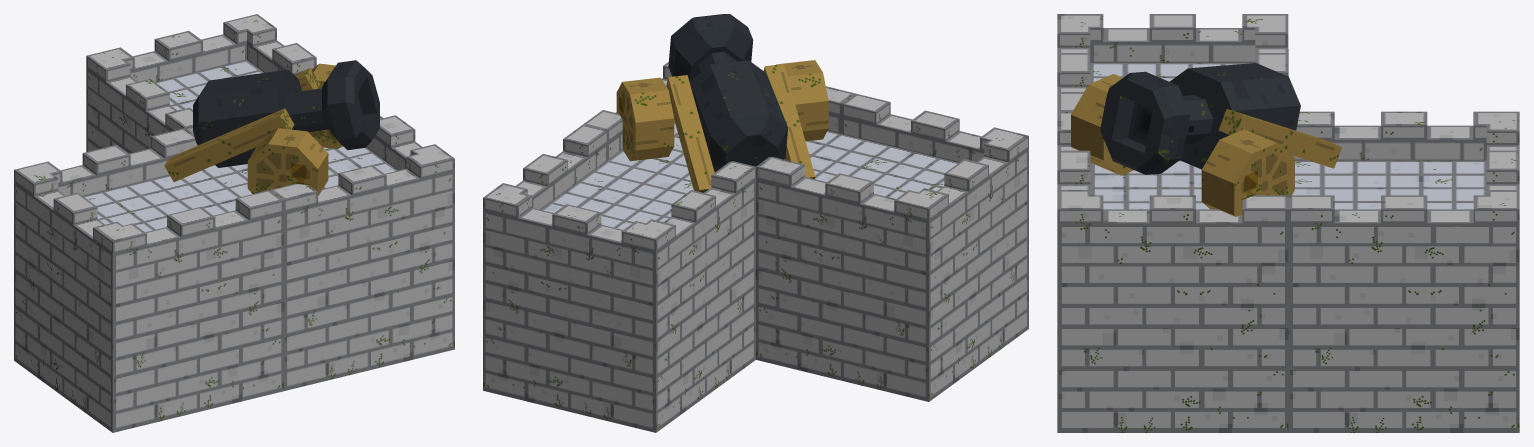
File: C3_cornor wall with cannon.FBX
3 views of the same model, side by side, from view 1: azimuth 30°, elevation 25°; view 2: azimuth 150°, elevation 25°; view 3: azimuth 270°, elevation 25° (orthographic). The views are drawn at different scales.
Parts seen in each view (by area): view 1: Group001, Box001; view 2: Group001, Box001; view 3: Group001, Box001.
Boxes of the visible parts, <box> form: Group001: <box>14,14,454,432</box>; Box001: <box>164,60,379,195</box>; Group001: <box>483,62,1028,432</box>; Box001: <box>616,14,828,192</box>; Group001: <box>1057,14,1519,432</box>; Box001: <box>1071,63,1341,216</box>.
Bounding box in the file's own units: 236 × 178 × 236.
1 material, 1 textured.
